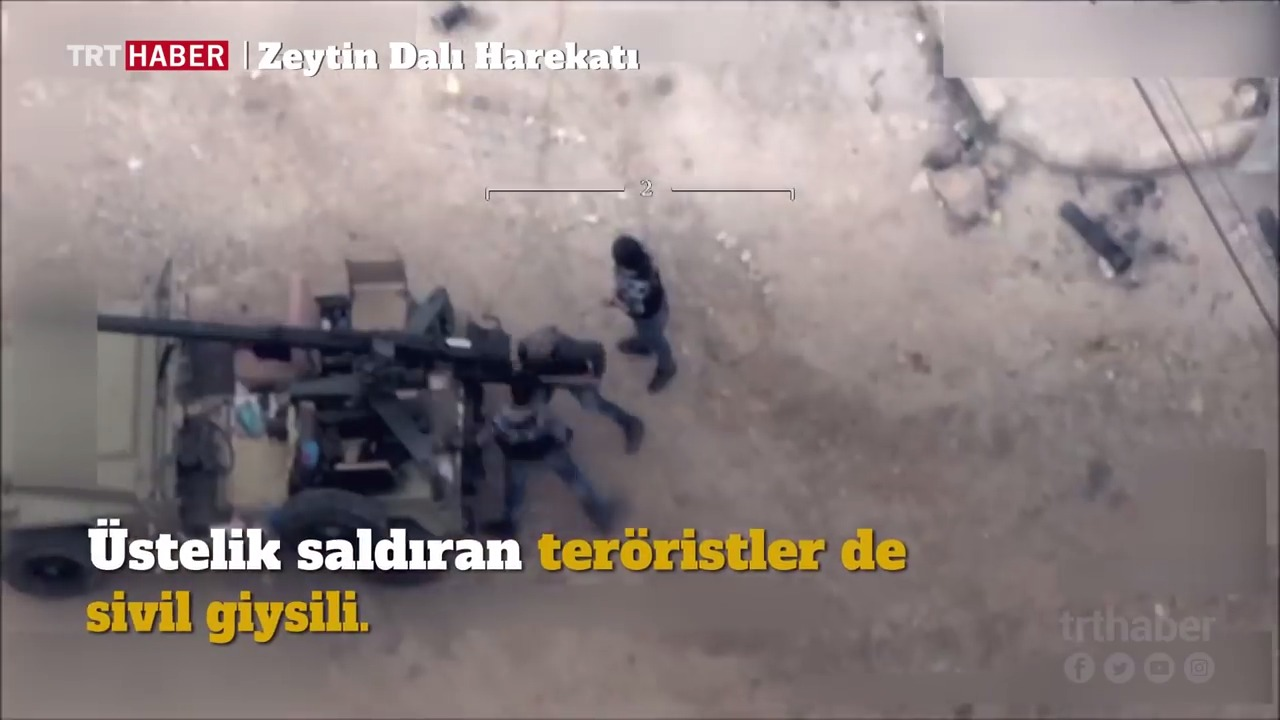arac: (0, 287, 534, 602)
insan: (490, 372, 626, 547), (522, 324, 646, 490), (607, 226, 681, 401)
